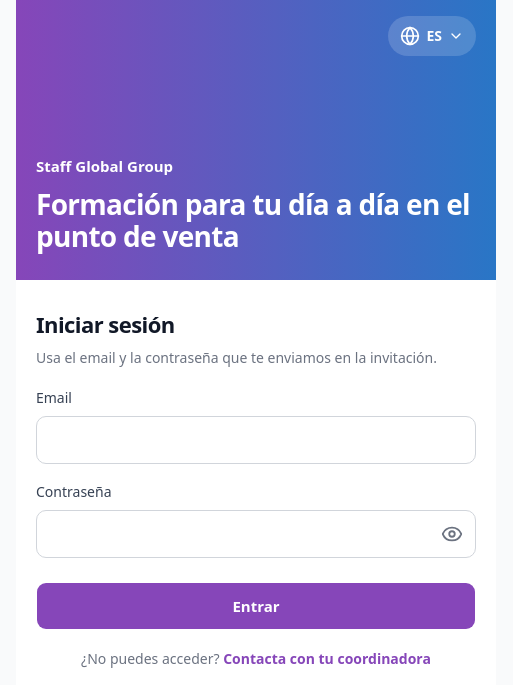
Test: login › el primer acceso lleva a crear la contraseña
The width and height of the screenshot is (513, 685).
In the field labelled "Email": (256,440) [36,416,476,464], type "lucia.fernandez@email.com"
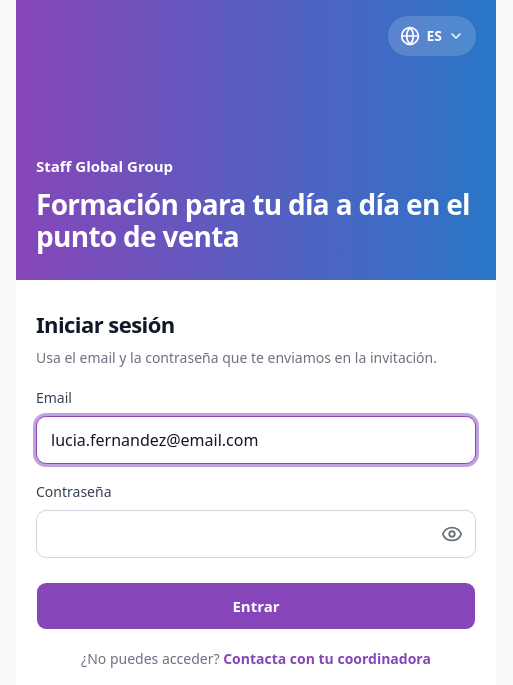
In the password field labelled "Contraseña": (256,534) [36,510,476,558], type "provisional"
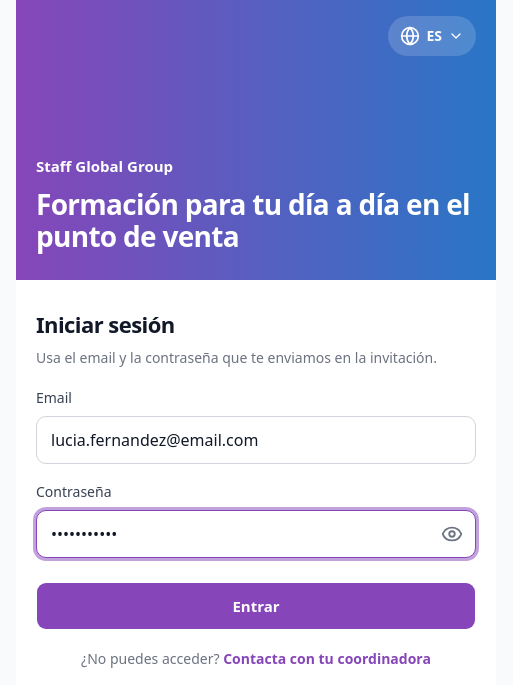
Click the button "Entrar": (256,606) [36,582,476,630]
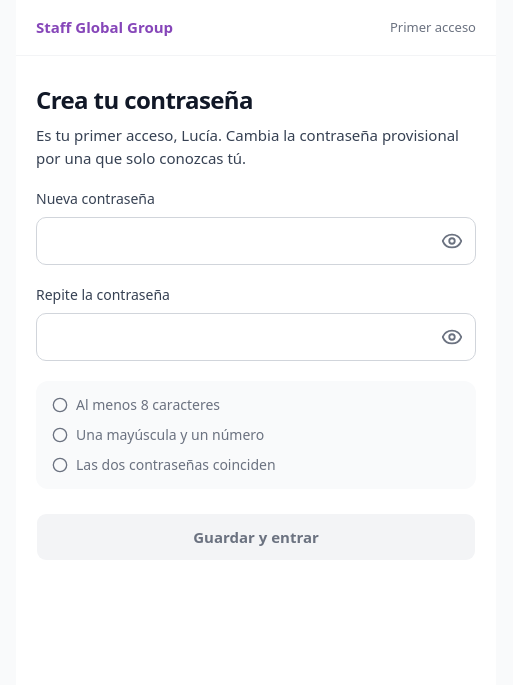
Result: the heading "Crea tu contraseña" is shown at [36,83,253,116]
